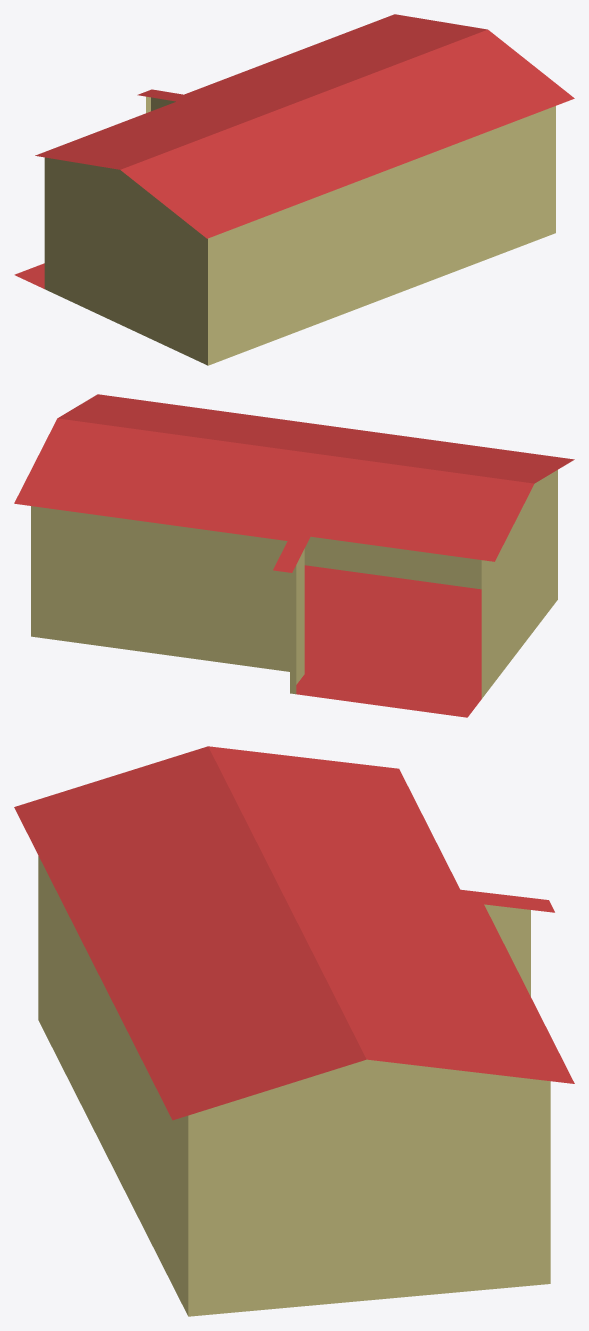
3 views of the same model, one above another, from view 1: azimuth 30°, elevation 25°; view 2: azimuth 150°, elevation 25°; view 3: azimuth 270°, elevation 25° (orthographic). The views are drawn at different scales.
Size of the model in its own units: 20.01 by 13.63 by 6.7.
